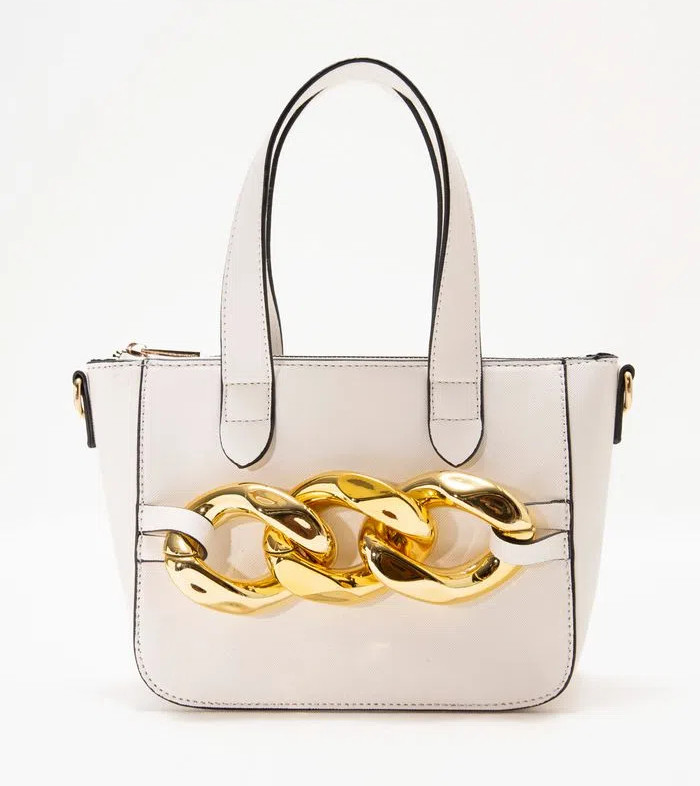cartera: (54, 43, 668, 738)
cuero: (52, 41, 666, 736)
